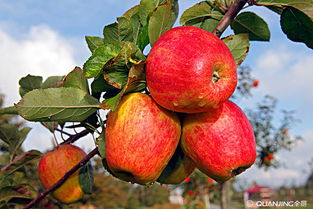apple: (144, 26, 237, 115)
obscured(0)_apple: (97, 92, 184, 186)
obscured(2)_apple: (179, 95, 259, 187)
